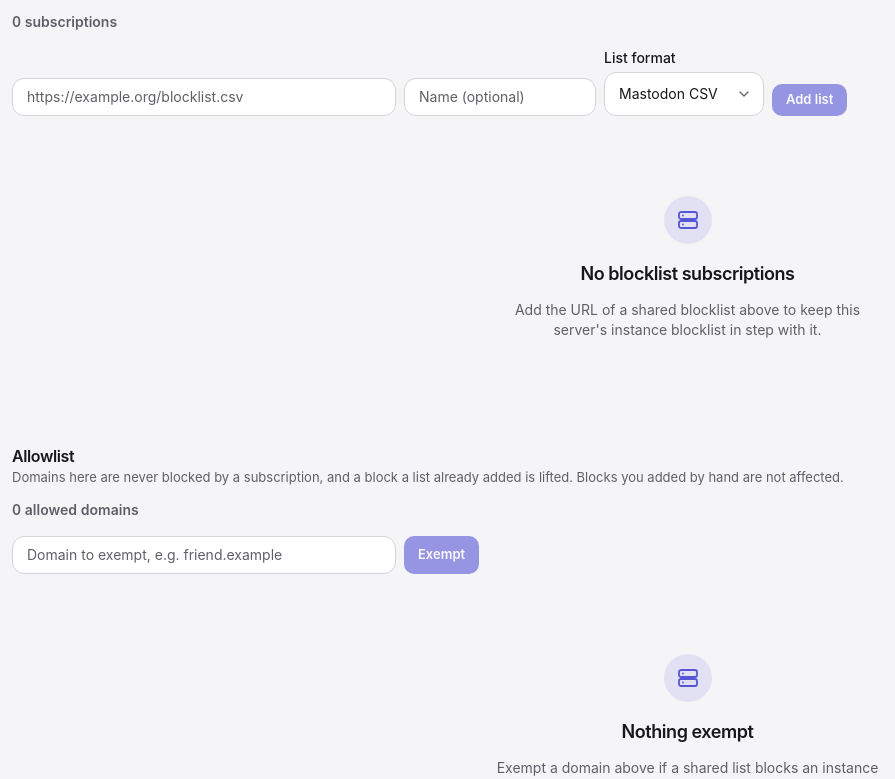
Test: AdminBlocklistSubscriptionsView › explains a duplicate (409) and an invalid URL (422)
Check: the text "No blocklist subscriptions" is shown, box [580,260,794,288]
Type "https://x.example/l" into the field named "Blocklist URL" at (204, 97), box [12,78,396,116]
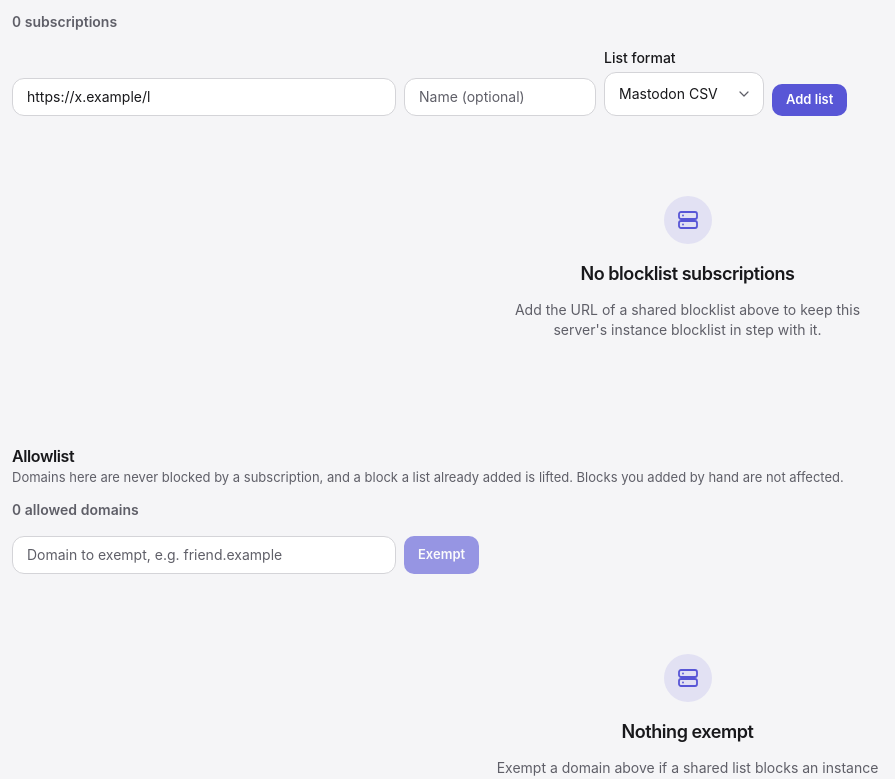
Click the button "Add list" at (810, 100), box [772,84,847,116]
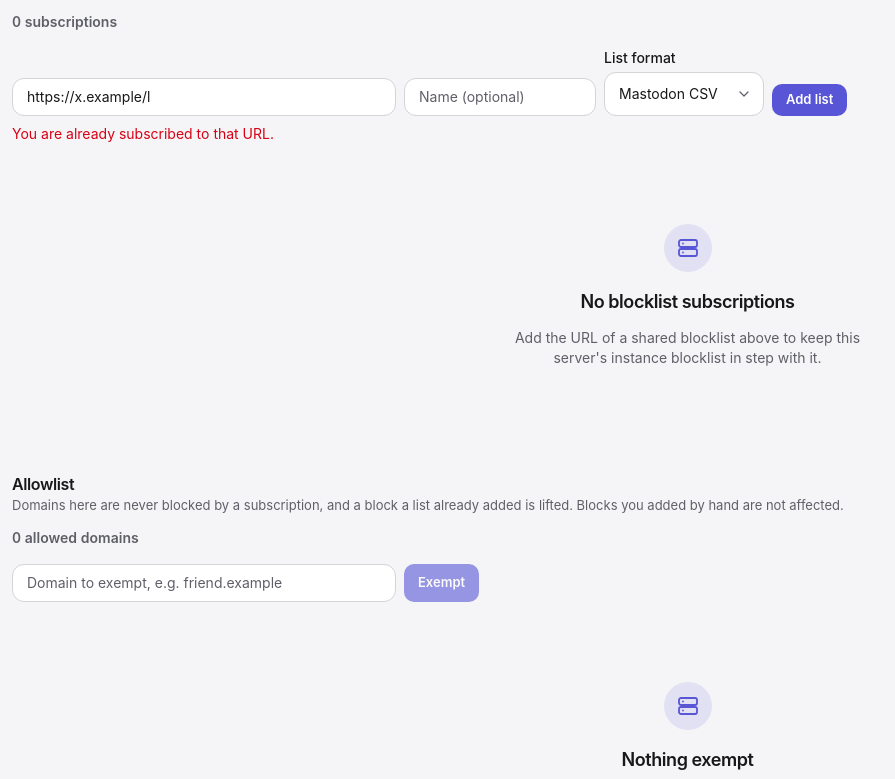
Check: the message shows "already subscribed", box [12,125,274,142]
Click the button "Add list" at (810, 100), box [772,84,847,116]
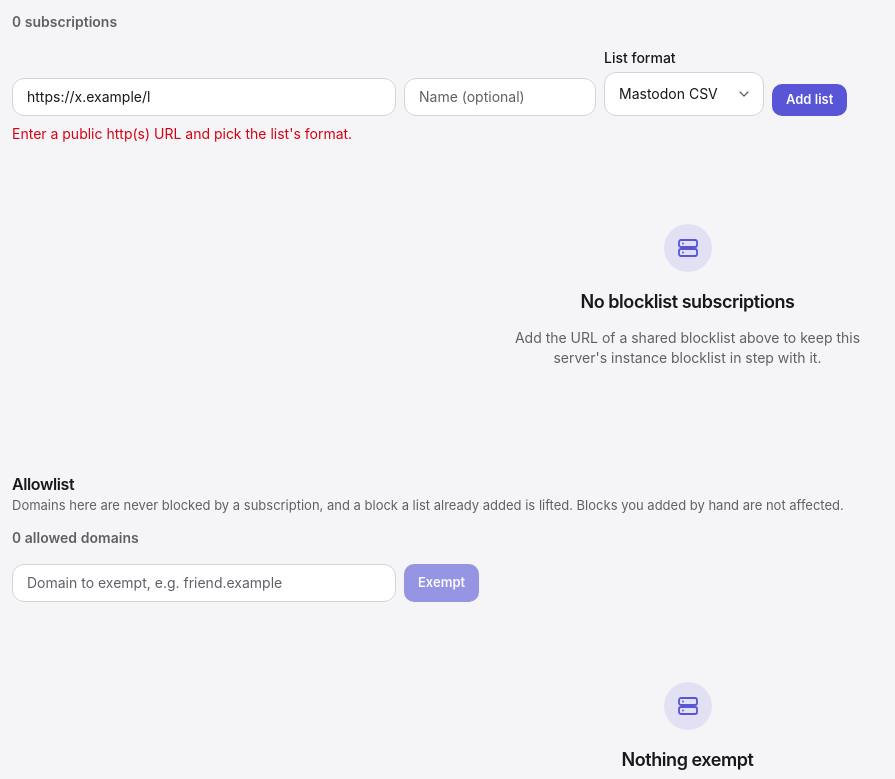
Check: the message shows "public http(s) URL", box [12,125,352,142]
